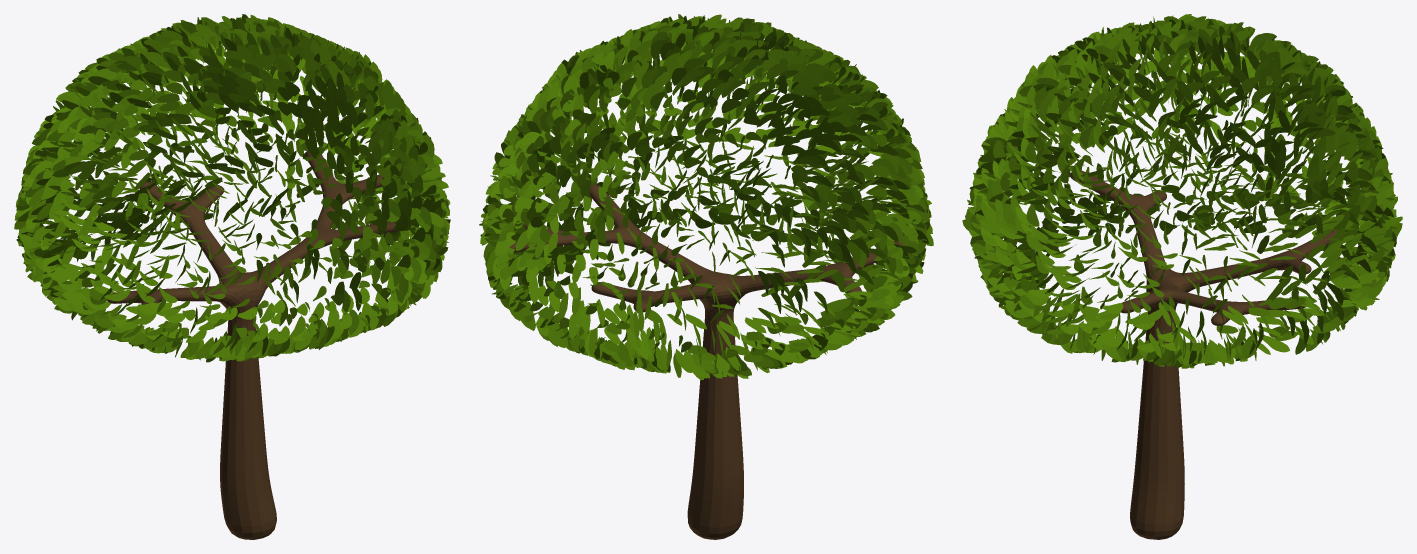
The model's file is Swittenia.fbx.
The picture shows the model from 3 angles, left to right: view 1: azimuth 30°, elevation 25°; view 2: azimuth 150°, elevation 25°; view 3: azimuth 270°, elevation 25°; orthographic projection. The views are drawn at different scales.
Visible parts, largest first — view 1: Cube; view 2: Cube; view 3: Cube.
Part boxes in pixels (x1=…): Cube: x1=14, y1=14, x2=450, y2=539; Cube: x1=479, y1=14, x2=933, y2=539; Cube: x1=962, y1=14, x2=1402, y2=539.
Size of the model in its own units: 461 by 576 by 464.
